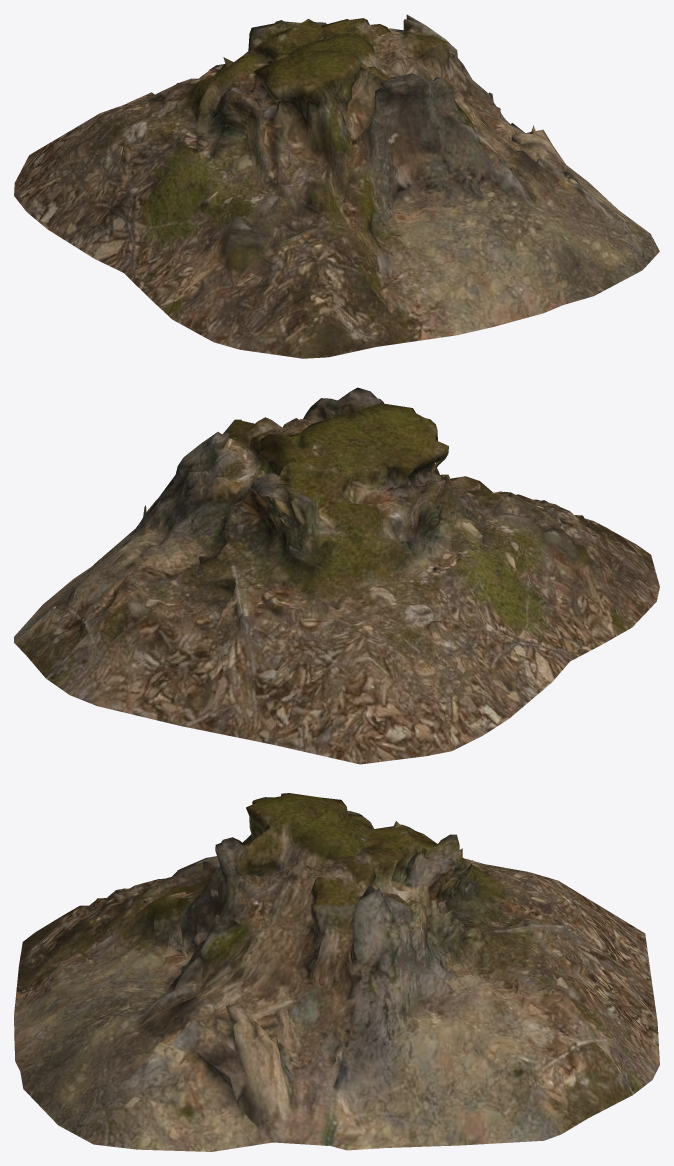
File: tree_stump_01.glb
3 views of the same model, one above another, from view 1: azimuth 30°, elevation 25°; view 2: azimuth 150°, elevation 25°; view 3: azimuth 270°, elevation 25° (orthographic). The views are drawn at different scales.
Visible parts, largest first — view 1: tree_stump_01; view 2: tree_stump_01; view 3: tree_stump_01.
Part boxes in pixels (x1=…): tree_stump_01: x1=14, y1=14, x2=659, y2=358; tree_stump_01: x1=14, y1=387, x2=659, y2=764; tree_stump_01: x1=14, y1=793, x2=659, y2=1151.
Bounding box in the file's own units: 1.43 × 0.57 × 1.59.
1 material, 1 textured.
